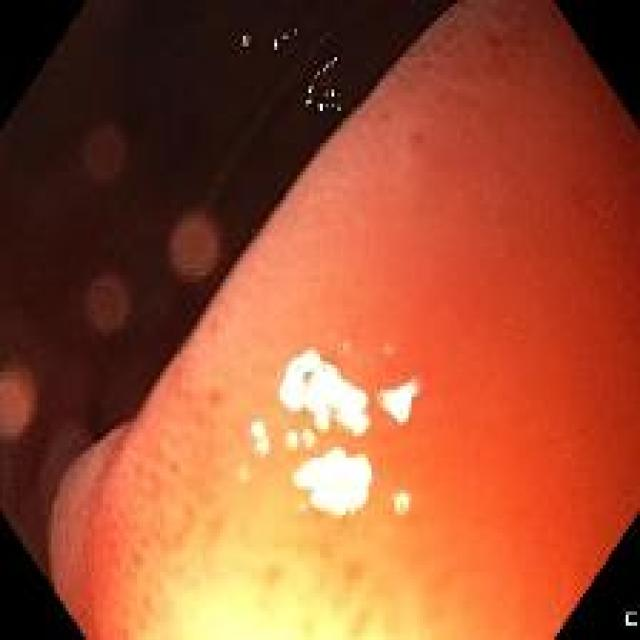color misalignment: (75, 270, 135, 346), (164, 209, 225, 283), (0, 362, 38, 449), (84, 123, 133, 189)
contrast: (2, 7, 134, 423), (135, 7, 445, 120), (134, 119, 325, 241), (134, 242, 217, 407)
saturation: (145, 450, 558, 638)
specularity: (274, 352, 374, 451), (289, 443, 379, 518), (380, 377, 419, 423), (246, 419, 276, 455), (305, 80, 314, 107), (330, 89, 339, 113), (239, 31, 250, 49), (281, 25, 291, 43), (315, 101, 326, 115), (292, 23, 299, 40), (271, 38, 279, 52)
